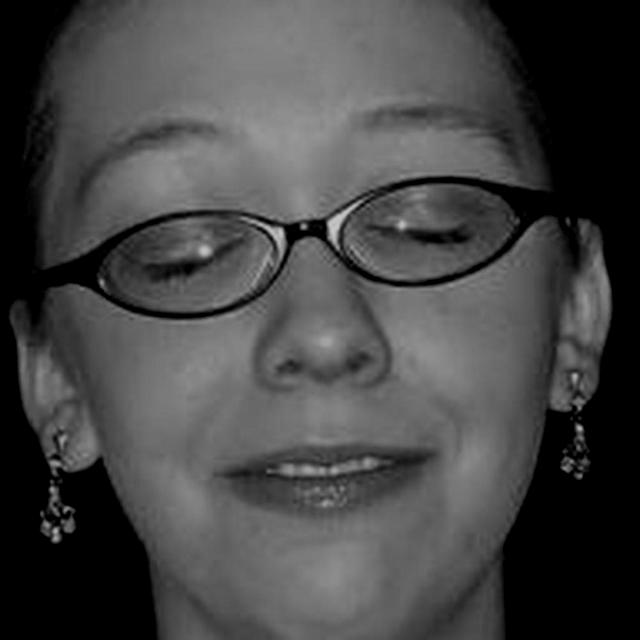real: (8, 7, 613, 640), (81, 180, 537, 300)
